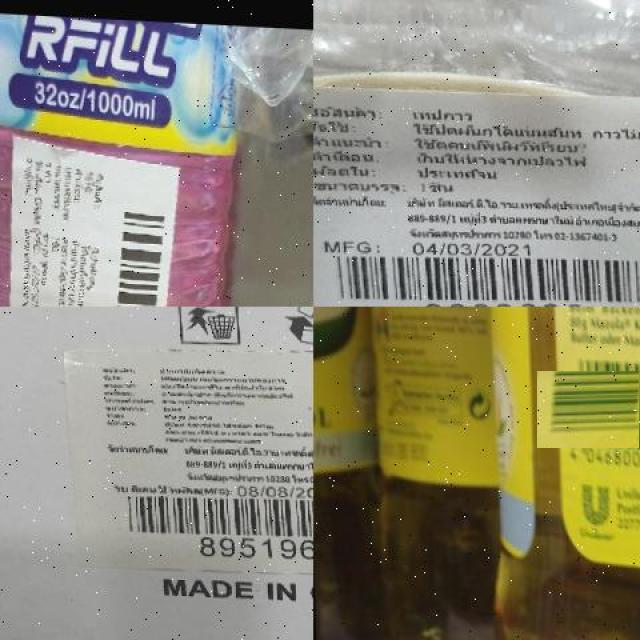Barcode: (324, 237, 640, 307), (111, 479, 313, 565), (85, 177, 176, 307), (549, 358, 640, 460)
